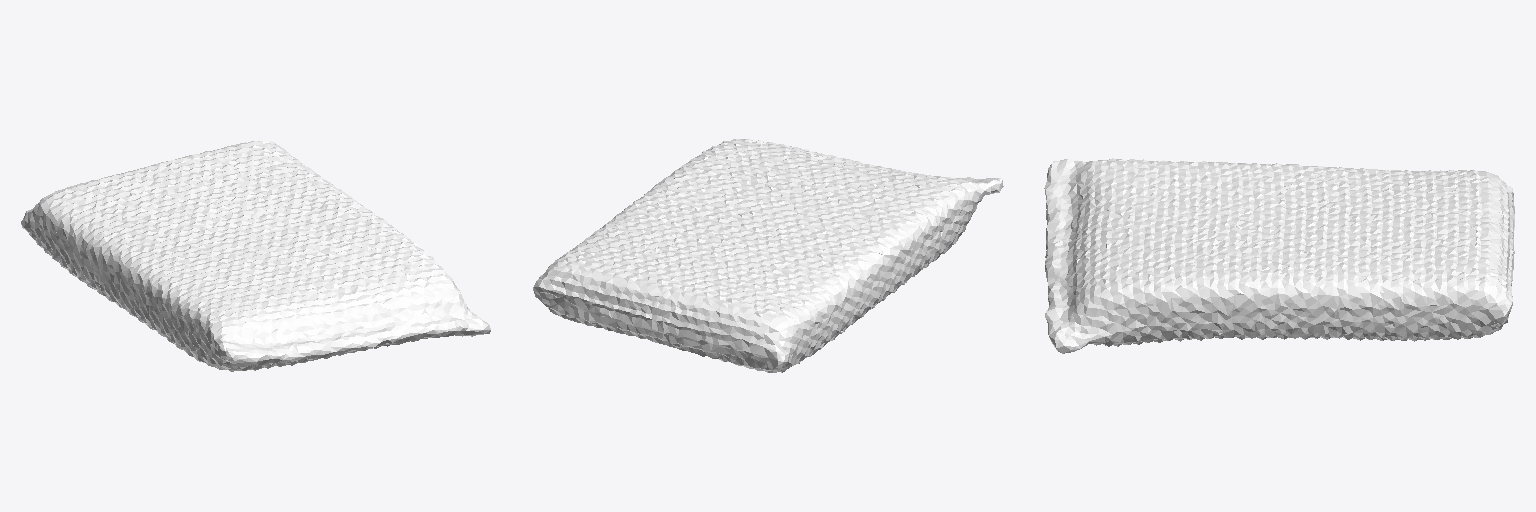
The robot description file, URDF, robot "sponge":
<robot name="sponge">
    <link name="base_link">
        <visual>
            <origin xyz="0.0 -0.0 0.0" rpy="0.0 0.0 0.0" />
            <geometry>
                <mesh filename="sponge/textured.obj" scale="1 1 1" />
            </geometry>
            <material name="texture">
                <color rgba="1.0 1.0 1.0 1.0" />
            </material>
        </visual>
        <collision>
            <origin xyz="0.0 -0.0 0.0" rpy="0.0 0.0 0.0" />
            <geometry>
                <mesh filename="sponge/textured_coacd_0.stl" scale="1 1 1" />
            </geometry>
        </collision>
        <collision>
            <origin xyz="0.0 -0.0 0.0" rpy="0.0 0.0 0.0" />
            <geometry>
                <mesh filename="sponge/textured_coacd_1.stl" scale="1 1 1" />
            </geometry>
        </collision>
        <collision>
            <origin xyz="0.0 -0.0 0.0" rpy="0.0 0.0 0.0" />
            <geometry>
                <mesh filename="sponge/textured_coacd_2.stl" scale="1 1 1" />
            </geometry>
        </collision>
        <inertial>
            <mass value="0.0062" />
            <inertia ixx="1e-3" ixy="0.0" ixz="0.0" iyy="1e-3" iyz="0.0" izz="1e-3" />
        </inertial>
    </link>
</robot>

--- Facts derived from the render (not from the file) ---
Views: 3 orthographic renders of the robot side by side, from view 1: azimuth 30°, elevation 25°; view 2: azimuth 150°, elevation 25°; view 3: azimuth 270°, elevation 25°.
Robot: sponge — 1 links, 0 joints (none); root link base_link; default pose: every joint at zero.
Visible links, largest first — view 1: base_link; view 2: base_link; view 3: base_link.
Boxes of the visible links, x1,y1,x2,y2 form: base_link: [21, 140, 490, 371]; base_link: [533, 139, 1003, 372]; base_link: [1044, 158, 1514, 353].
Bounding box of the posed robot: 0.0793 × 0.1112 × 0.0181 m (x, y, z).
Meshes: 1 distinct files referenced, 1 mesh visuals loaded (1 OBJ).